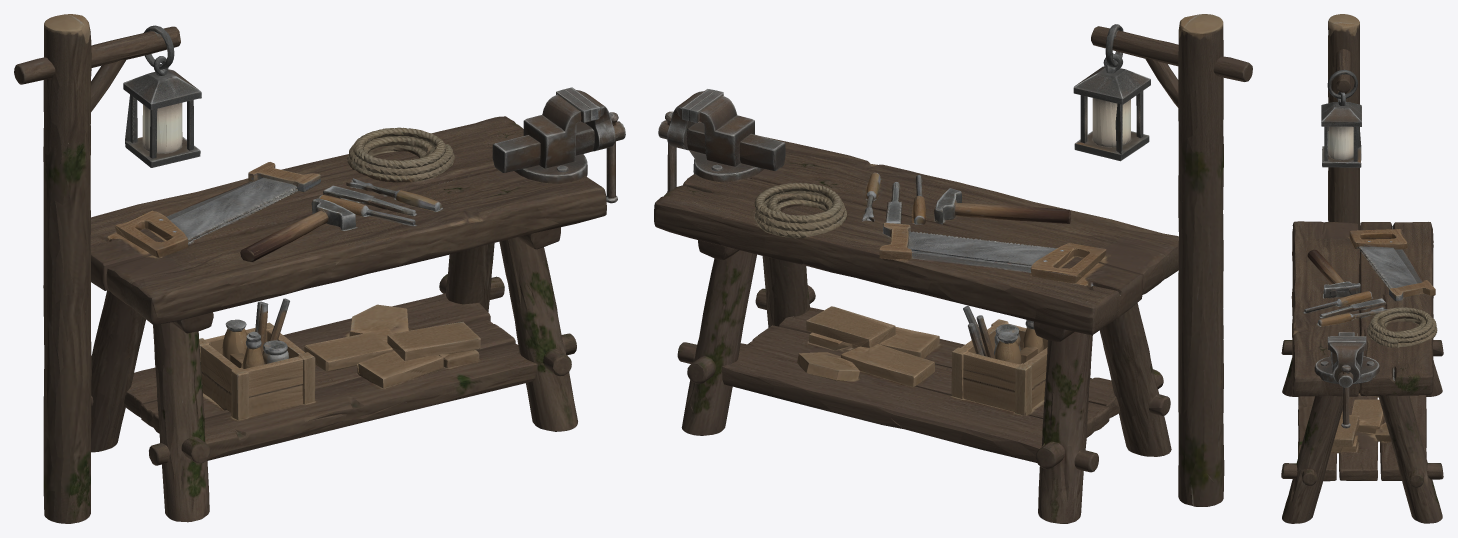
The model's file is camp_workbench.glb.
3 views of the same model, side by side, from view 1: azimuth 30°, elevation 25°; view 2: azimuth 150°, elevation 25°; view 3: azimuth 270°, elevation 25° (orthographic). The views are drawn at different scales.
Parts seen in each view (by area): view 1: Mesh_0; view 2: Mesh_0; view 3: Mesh_0.
Boxes of the visible parts, box(x1,y1,x2,y2) form: Mesh_0: box(14, 14, 625, 523); Mesh_0: box(654, 14, 1252, 523); Mesh_0: box(1281, 14, 1443, 523).
Bounding box in the file's own units: 1.9 × 1.49 × 0.6313.
Materials: 1 (1 with a texture image).
